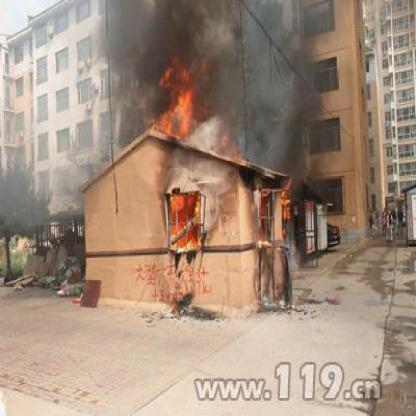fire: (168, 85, 194, 133), (170, 192, 186, 221), (178, 230, 196, 247), (280, 190, 290, 218)
